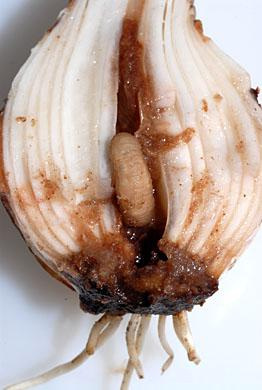grub: (107, 123, 161, 234)
